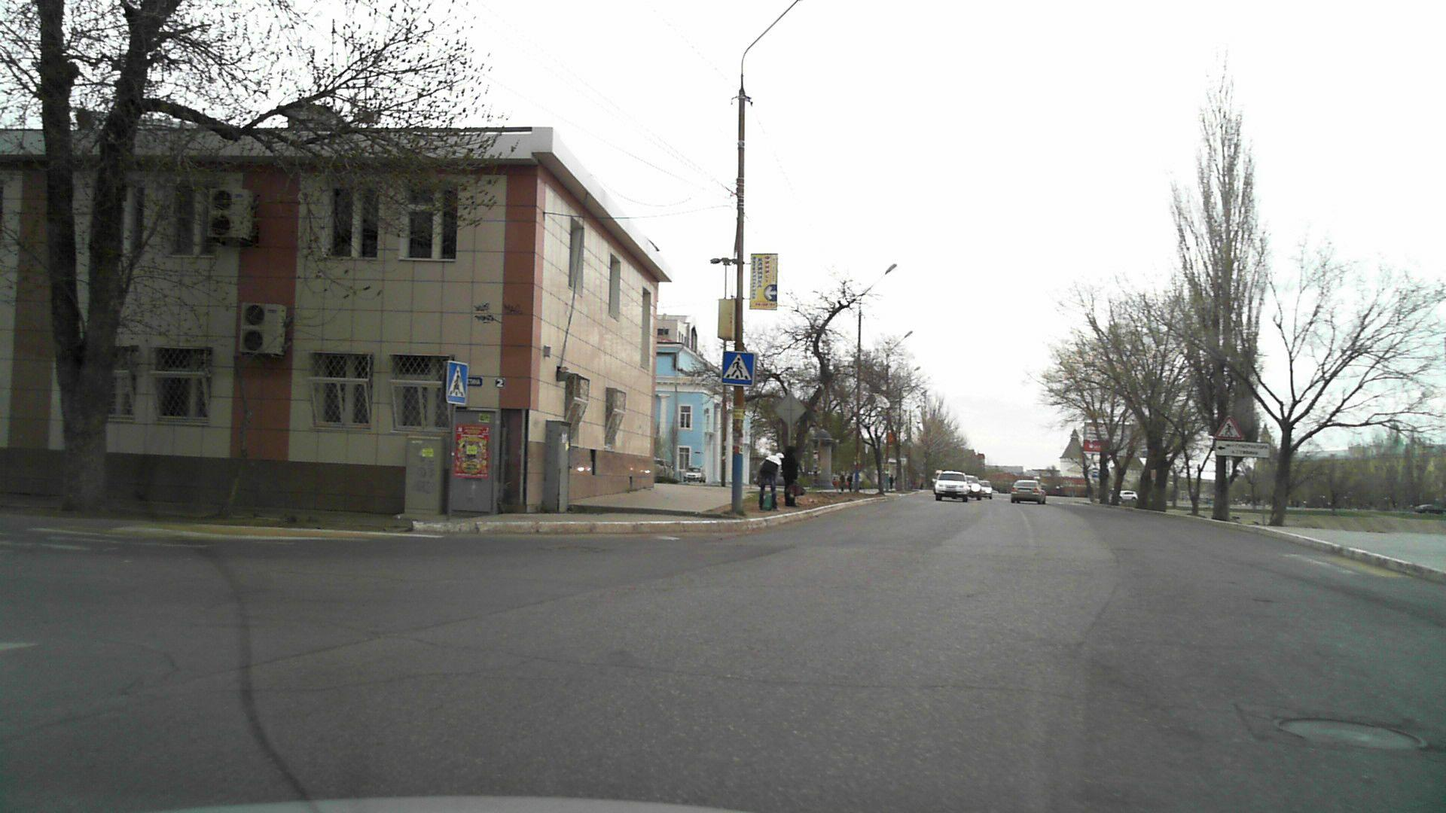road_sign: (722, 351, 755, 385), (447, 359, 469, 405), (1213, 414, 1246, 440)
